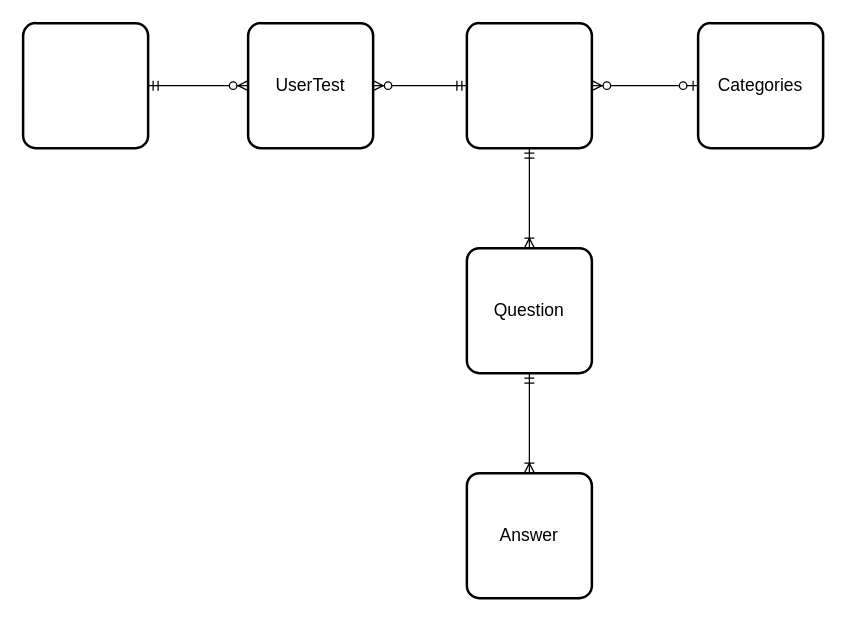
The diagram is 845 pixels wide and 620 high, and some of its shapes have lost their labels. The shapes that lost their labels are listed below. From the top down, each one's box as (x1, y1, x2, y2) in pixels, then its label:
(21, 21, 149, 149): User
(465, 21, 592, 149): Test
